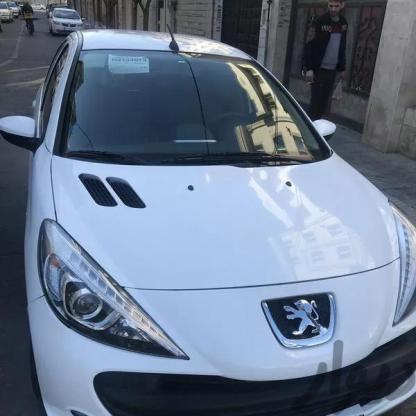Car: (0, 27, 416, 416), (37, 6, 88, 42), (0, 2, 16, 29)
